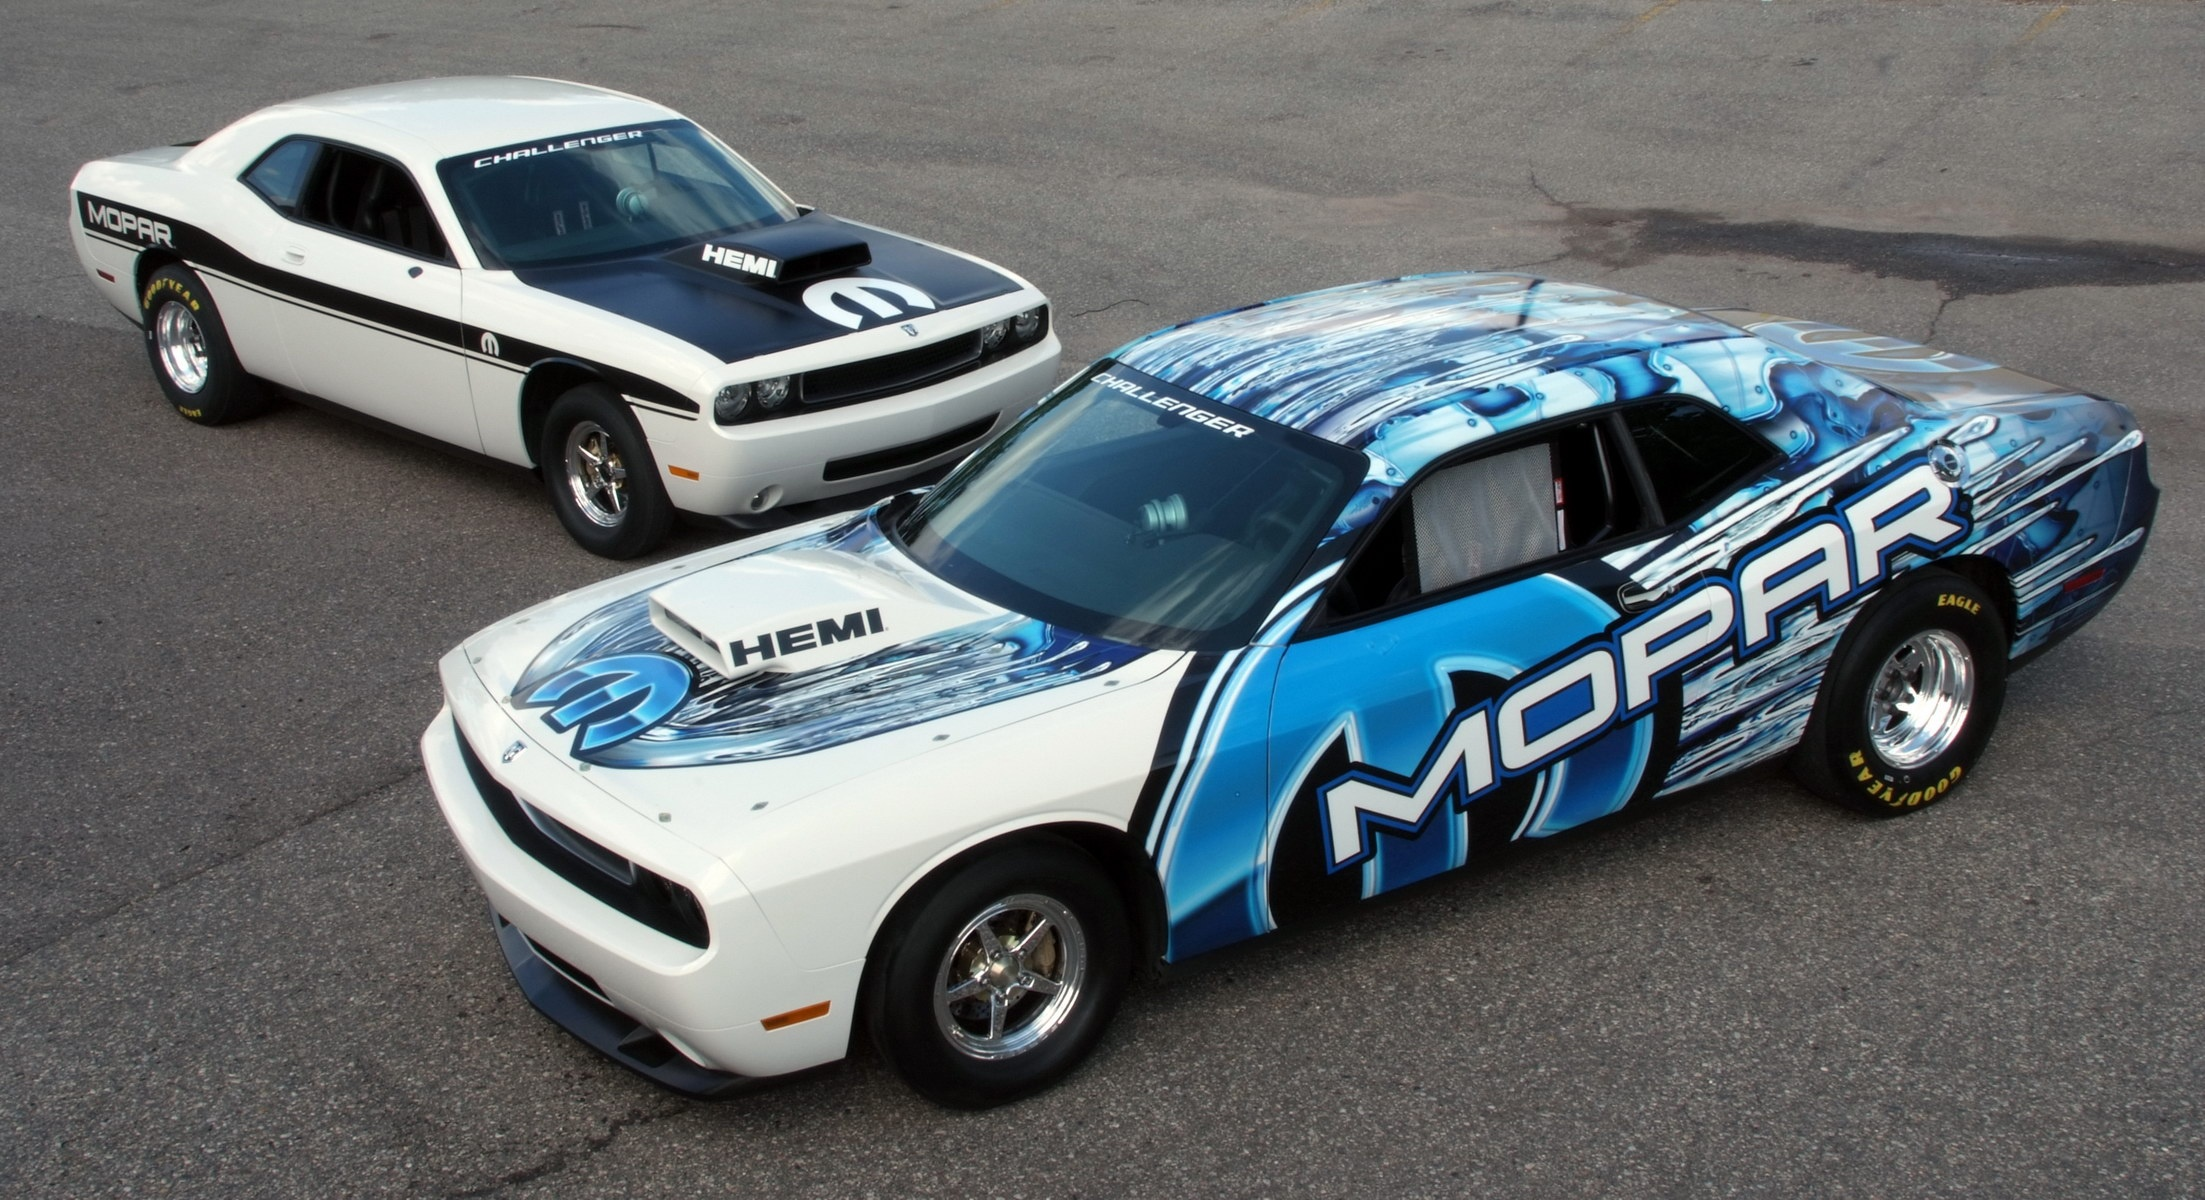racing car: (446, 273, 2161, 1091)
